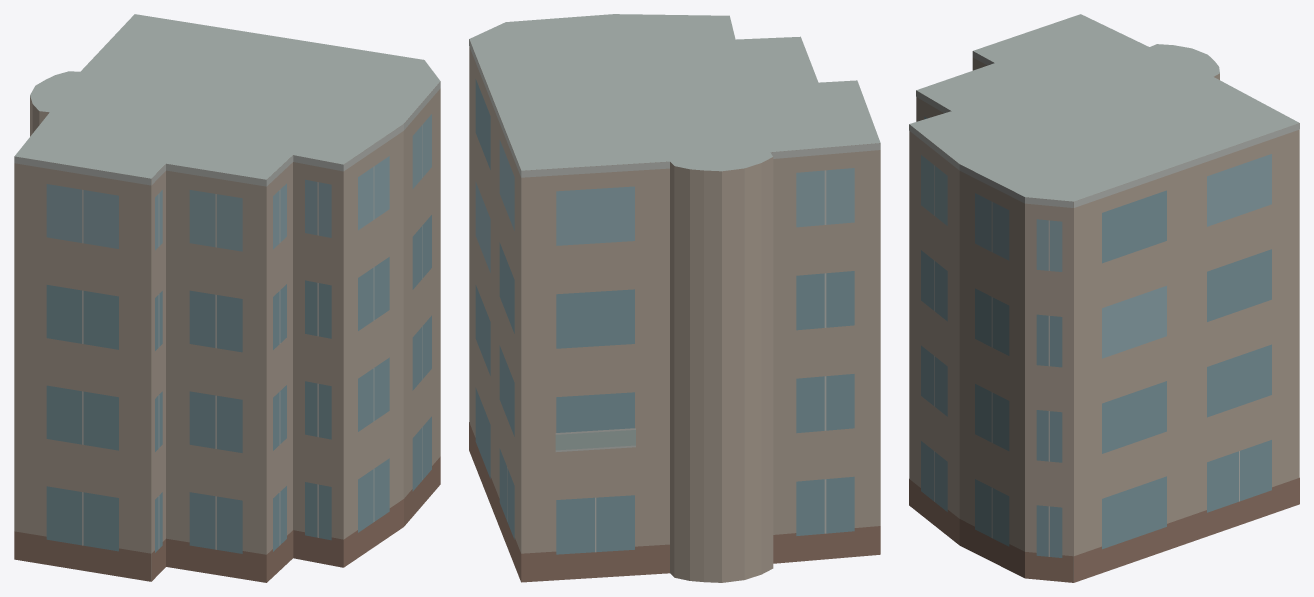
The model's file is survey-upis-32505691.glb.
The picture shows the model from 3 angles, left to right: view 1: azimuth 30°, elevation 25°; view 2: azimuth 150°, elevation 25°; view 3: azimuth 270°, elevation 25°; orthographic projection. The views are drawn at different scales.
Visible parts, largest first — view 1: survey-upis-32505691.tmp; view 2: survey-upis-32505691.tmp; view 3: survey-upis-32505691.tmp.
Boxes of the visible parts, x1=… form: survey-upis-32505691.tmp: x1=14, y1=14, x2=440, y2=582; survey-upis-32505691.tmp: x1=469, y1=14, x2=880, y2=582; survey-upis-32505691.tmp: x1=909, y1=14, x2=1299, y2=582.
Bounding box in the file's own units: 15.1 × 14.3 × 13.29.
